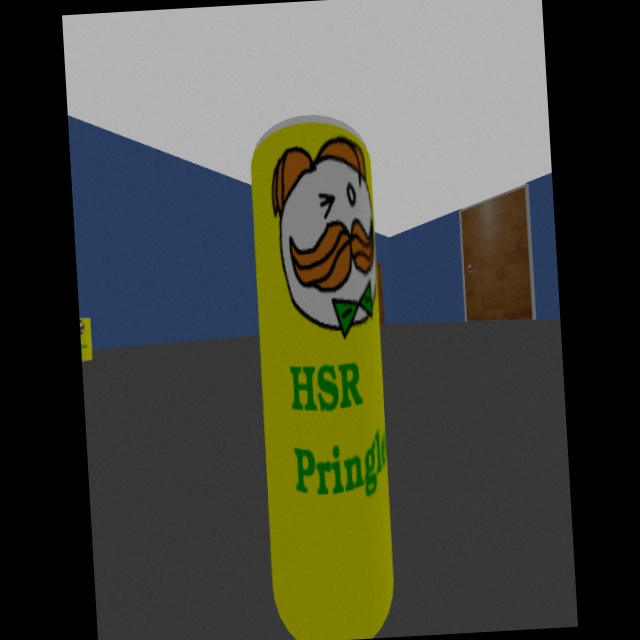chipsdose_gelb: (249, 114, 394, 640), (79, 318, 92, 362)
